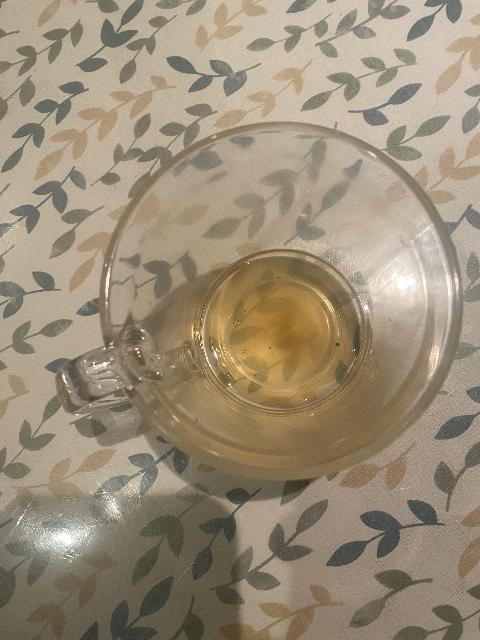Cam: (49, 121, 467, 489)
